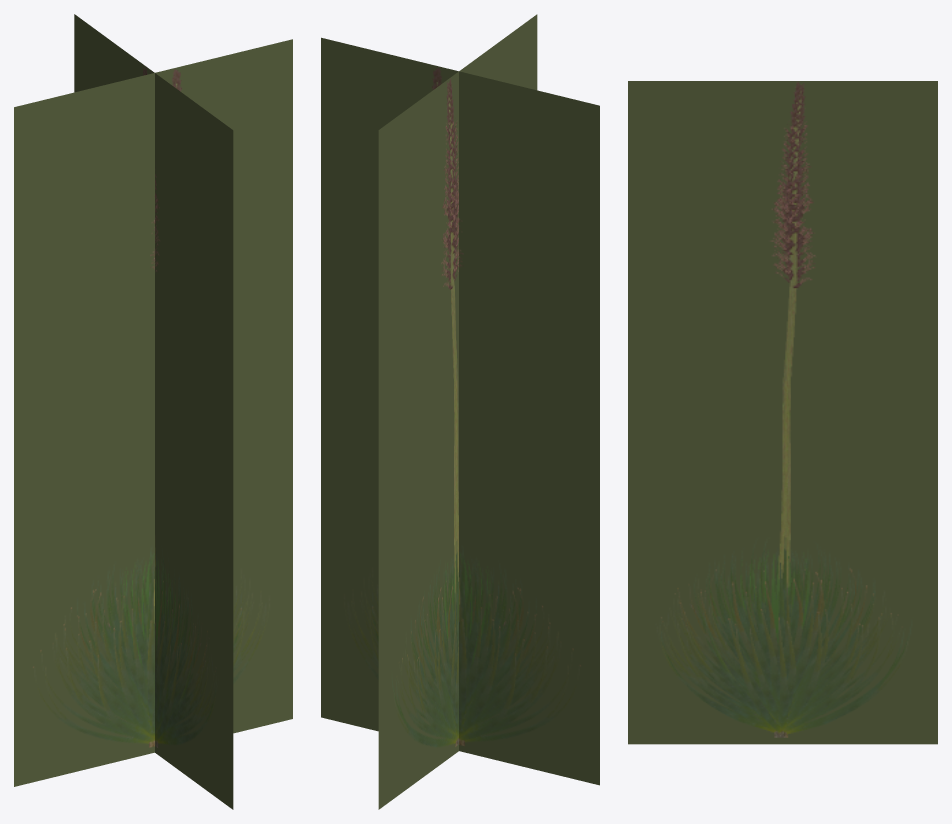
File: AgaveStricta.glb
3 renders of one model, left to right at view 1: azimuth 30°, elevation 25°; view 2: azimuth 150°, elevation 25°; view 3: azimuth 270°, elevation 25°, orthographic. The views are drawn at different scales.
Parts seen in each view (by area): view 1: mesh__mat_billboard_18; view 2: mesh__mat_billboard_18; view 3: mesh__mat_billboard_18.
Boxes of the visible parts, x1,y1,x2,y2 form: mesh__mat_billboard_18: (14,14,292,809); mesh__mat_billboard_18: (321,14,599,809); mesh__mat_billboard_18: (628,81,937,744).
Size of the model in its own units: 0.9203 by 2.14 by 0.9075.
1 material, 1 textured.
